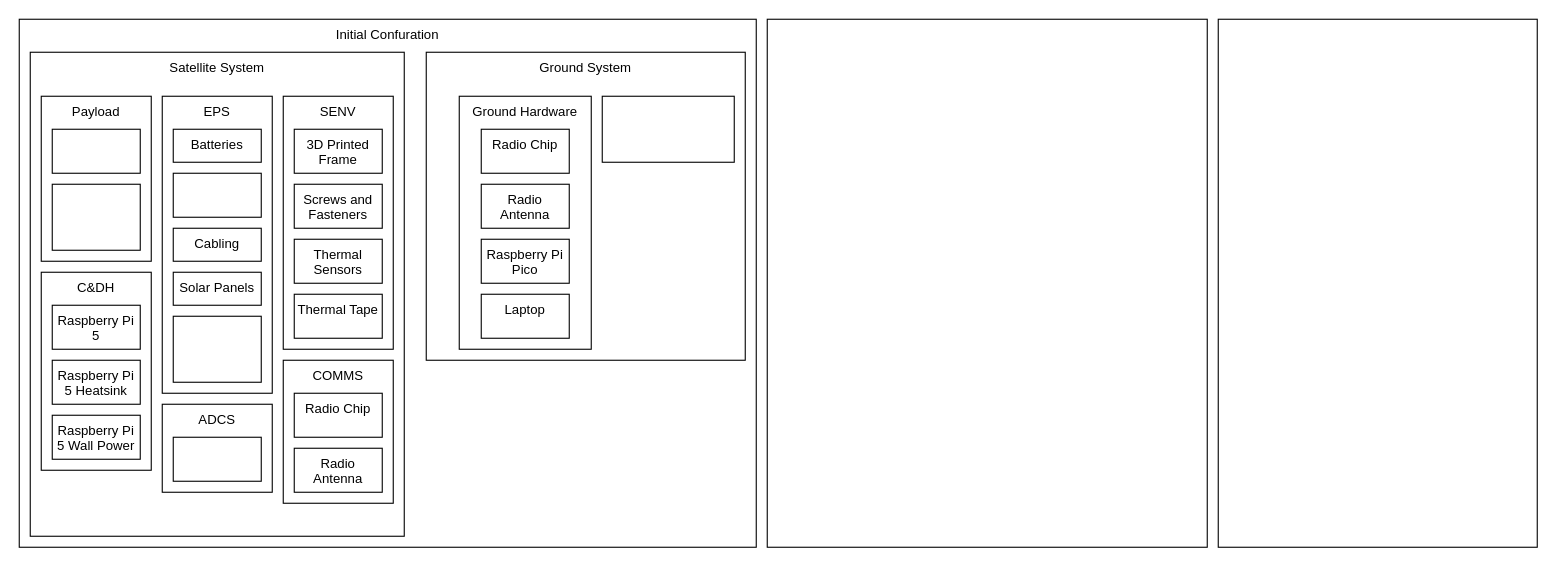
The diagram is 1557 pixels wide and 567 high, and some of its shapes have lost their labels. The shapes that lost their labels are listed below. From the top down, each one's centre as x and y in pixels, then its label:
At (x=667, y=128): "Ground Software".
At (x=95, y=150): "Raspberry Pi Camera".
At (x=216, y=194): "Current Sensors".
At (x=95, y=216): "Multispectral Intensity Sensor".
At (x=986, y=282): "3U Full Configuration".
At (x=1377, y=282): "6U Full Configuration".
At (x=216, y=348): "Power Distribution Board".
At (x=216, y=458): "IMU".
